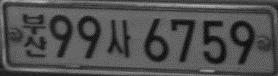5: (202, 19, 227, 64)
6: (143, 18, 169, 63)
7: (170, 18, 195, 62)
9: (229, 19, 255, 64), (76, 15, 100, 59), (49, 14, 72, 57)
부산_V: (21, 13, 46, 57)
사: (106, 19, 131, 57)
